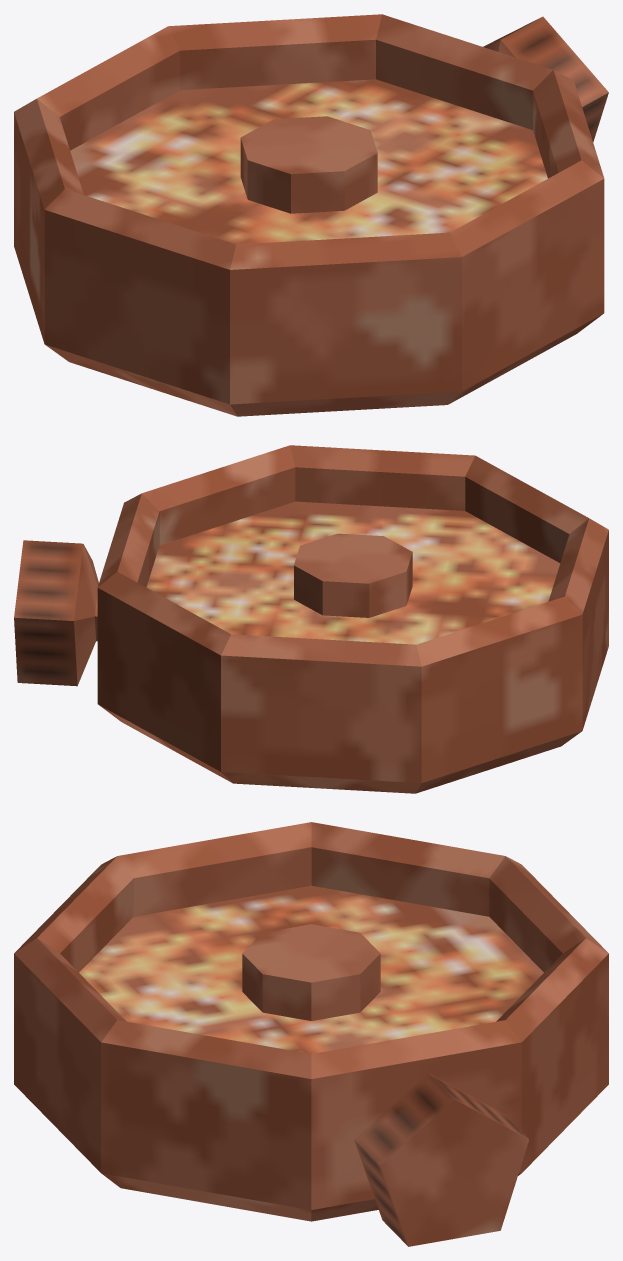
Rendered from mechanism.fbx.
3 renders of one model, top to bottom at view 1: azimuth 30°, elevation 25°; view 2: azimuth 150°, elevation 25°; view 3: azimuth 270°, elevation 25°, orthographic. The views are drawn at different scales.
Visible parts, largest first — view 1: механизм; view 2: механизм; view 3: механизм.
Boxes of the visible parts, x1,y1,x2,y2 form: механизм: (14, 14, 608, 416); механизм: (14, 445, 608, 793); механизм: (14, 822, 608, 1246).
Size of the model in its own units: 7.93 by 2.2 by 7.
